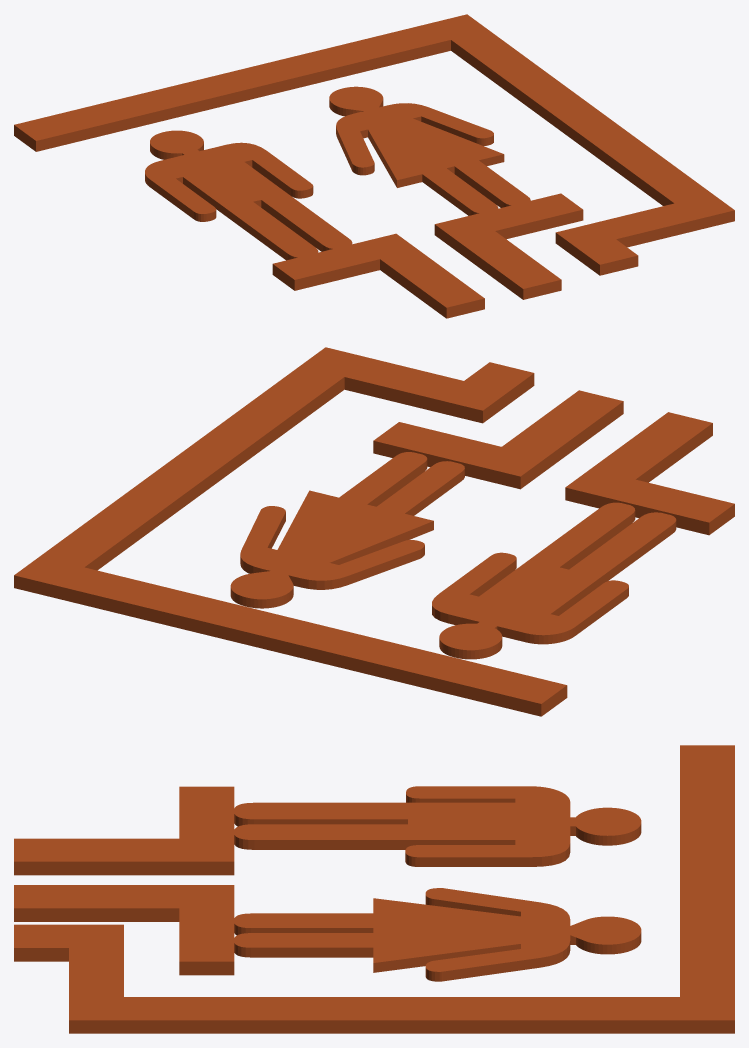
Rendered from wc_welectrode_tiny.glb.
3 renders of one model, top to bottom at view 1: azimuth 30°, elevation 25°; view 2: azimuth 150°, elevation 25°; view 3: azimuth 270°, elevation 25°, orthographic. The views are drawn at different scales.
Parts seen in each view (by area): view 1: wc sign; view 2: wc sign; view 3: wc sign.
Part boxes in pixels (x1,y1,x2,y2): wc sign: (14, 14, 734, 318); wc sign: (14, 347, 734, 716); wc sign: (14, 745, 734, 1033).
Size of the model in its own units: 0.13 by 0.00451 by 0.144.
